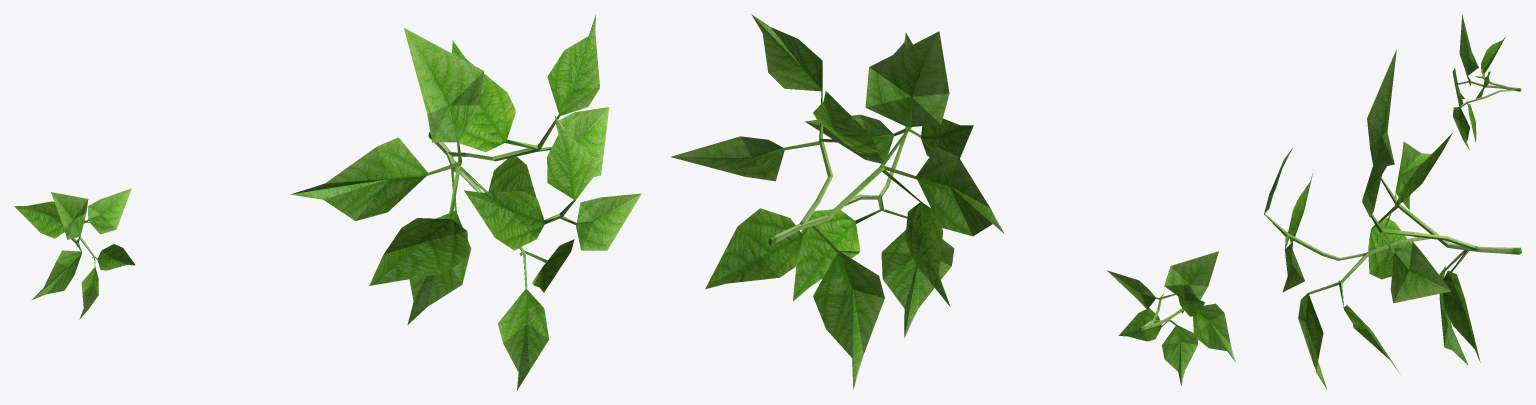
The model's file is bean_medium.obj.
The picture shows the model from 3 angles, left to right: view 1: azimuth 30°, elevation 25°; view 2: azimuth 150°, elevation 25°; view 3: azimuth 270°, elevation 25°; orthographic projection. The views are drawn at different scales.
Visible parts, largest first — view 1: bean_big_unit.001_Plane.003, bean_small_unit.001_Plane.006; view 2: bean_big_unit.001_Plane.003, bean_small_unit.001_Plane.006; view 3: bean_big_unit.001_Plane.003, bean_small_unit.001_Plane.006.
Part boxes in pixels (bbox=[...]): bean_big_unit.001_Plane.003: bbox=[290, 14, 641, 390]; bean_small_unit.001_Plane.006: bbox=[14, 188, 135, 319]; bean_big_unit.001_Plane.003: bbox=[670, 14, 1004, 389]; bean_small_unit.001_Plane.006: bbox=[1107, 251, 1235, 385]; bean_big_unit.001_Plane.003: bbox=[1264, 49, 1521, 389]; bean_small_unit.001_Plane.006: bbox=[1452, 15, 1521, 149].
Size of the model in its own units: 0.488 by 0.2882 by 0.2169.
Materials: 2 (2 with a texture image).
